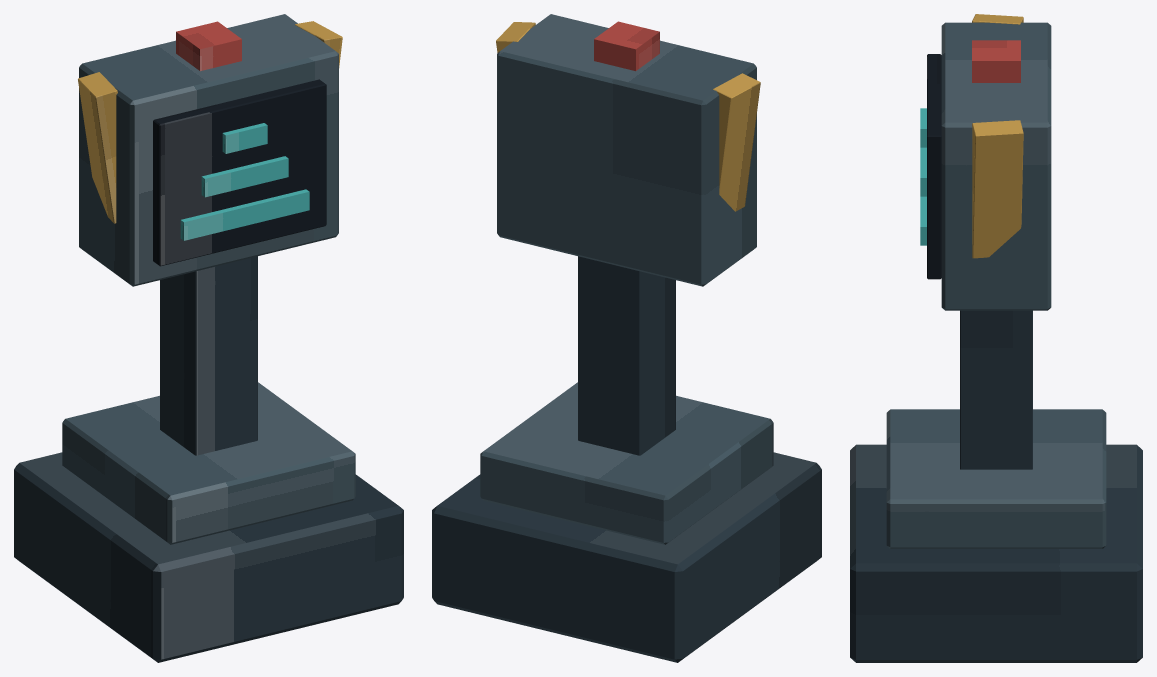
File: relay.glb
The picture shows the model from 3 angles, left to right: view 1: azimuth 30°, elevation 25°; view 2: azimuth 150°, elevation 25°; view 3: azimuth 270°, elevation 25°; orthographic projection.
Visible parts, largest first — view 1: RelayBase, SignalHead, RelayBaseStep, SignalFace, RelayMast, SideAntennaL, SignalBar_1, SignalLamp, SignalBar_2, SignalBar_3, SideAntennaR; view 2: SignalHead, RelayBase, RelayBaseStep, RelayMast, SideAntennaL, SignalLamp, SideAntennaR; view 3: RelayBase, RelayBaseStep, SignalHead, RelayMast, SideAntennaR, SignalFace, SignalLamp, SideAntennaL.
Part boxes in pixels (x1,y1,x2,y2): RelayBase: (14,452,403,662); SignalHead: (79,14,338,286); RelayBaseStep: (62,382,355,544); SignalFace: (153,79,326,266); RelayMast: (160,256,257,455); SideAntennaL: (78,72,117,223); SignalBar_1: (180,189,309,240); SignalLamp: (176,21,241,71); SignalBar_2: (201,156,288,197); SignalBar_3: (222,123,267,153); SideAntennaR: (295,21,342,67); SignalHead: (497,14,756,286); RelayBase: (432,452,821,662); RelayBaseStep: (480,382,773,544); RelayMast: (578,256,675,455); SideAntennaL: (713,73,760,211); SignalLamp: (594,21,659,71); SideAntennaR: (496,22,535,52); RelayBase: (850,444,1142,662); RelayBaseStep: (886,409,1106,548); SignalHead: (941,22,1051,310); RelayMast: (960,310,1032,469); SideAntennaR: (972,120,1023,258); SignalFace: (927,54,941,279); SignalLamp: (972,40,1020,82); SideAntennaL: (972,14,1023,24).
Size of the model in its own units: 0.48 by 1 by 0.48.
1 material, 1 textured.
